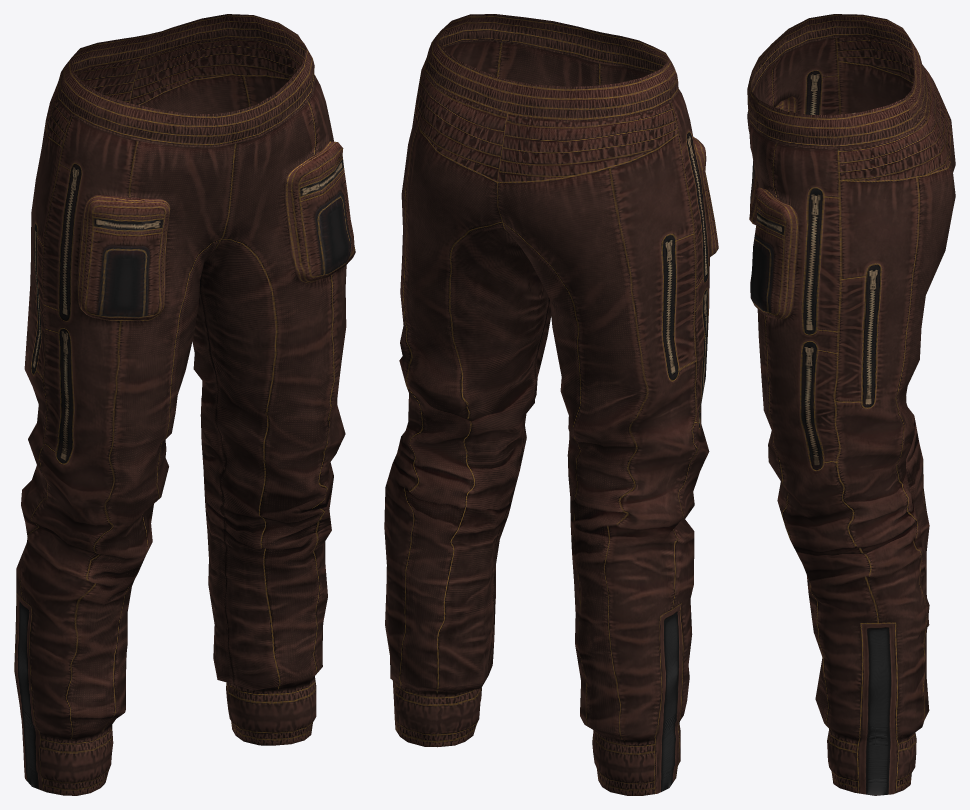
File: futuristic_apocalypse_female_cargo_pants.glb
The picture shows the model from 3 angles, left to right: view 1: azimuth 30°, elevation 25°; view 2: azimuth 150°, elevation 25°; view 3: azimuth 270°, elevation 25°; orthographic projection. The views are drawn at different scales.
Parts seen in each view (by area): view 1: Object_2; view 2: Object_2; view 3: Object_2.
Part boxes in pixels (box(x1,y1,x2,y2)): Object_2: box(14, 14, 355, 795); Object_2: box(384, 14, 718, 795); Object_2: box(747, 14, 955, 795).
Size of the model in its own units: 0.4622 by 1.06 by 0.2976.
Materials: 1 (1 with a texture image).
